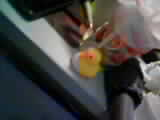duck: (65, 45, 99, 85)
